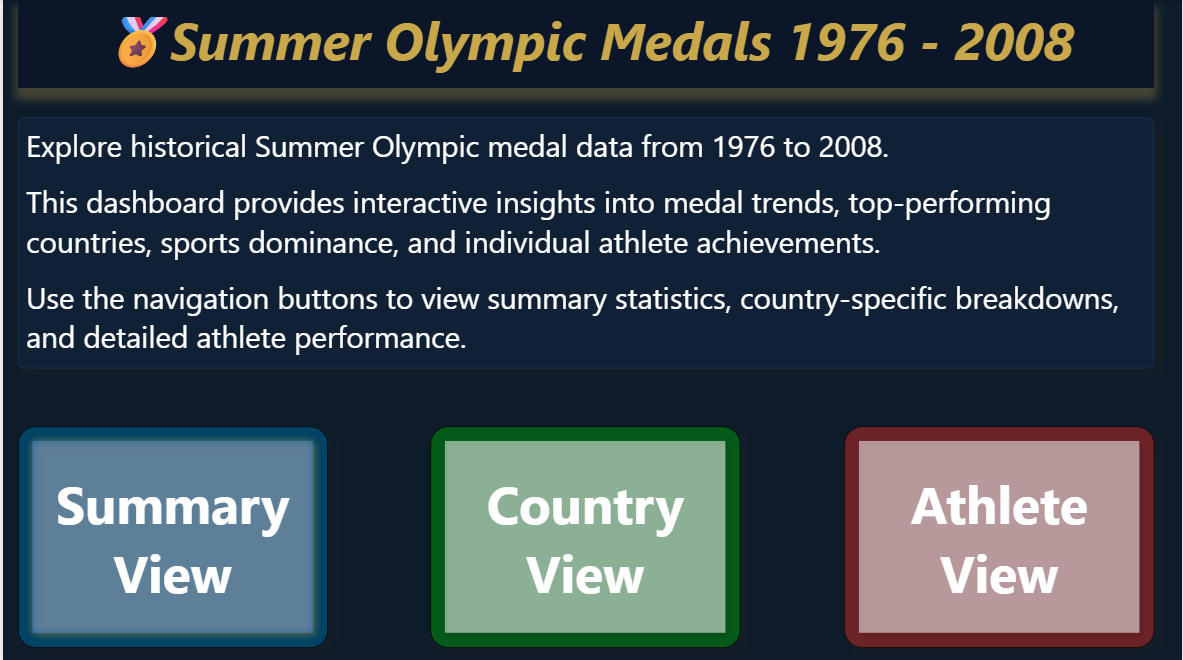

This screenshot's page, from the dashboard's own definition file:
{"tool":"powerbi","page":{"name":"Home Page","canvas":[1280,720],"ordinal":0},"visuals":[{"type":"textbox","box":[16,0,1232,96],"z":0},{"type":"textbox","box":[16,128,1232,272],"z":1000},{"type":"actionButton","box":[16,464,336,240],"z":2000},{"type":"actionButton","box":[464,464,336,240],"z":3000},{"type":"actionButton","box":[912,464,336,240],"z":4000}]}

Visuals, with their boxes in screenshot pixels (x1, y1, x2, y2), scaled from the page's 1280x720 canvas onto the 1183x660 screenshot:
textbox: bbox=[15, 0, 1153, 88]
textbox: bbox=[15, 117, 1153, 367]
actionButton: bbox=[15, 425, 325, 645]
actionButton: bbox=[429, 425, 739, 645]
actionButton: bbox=[843, 425, 1153, 645]
